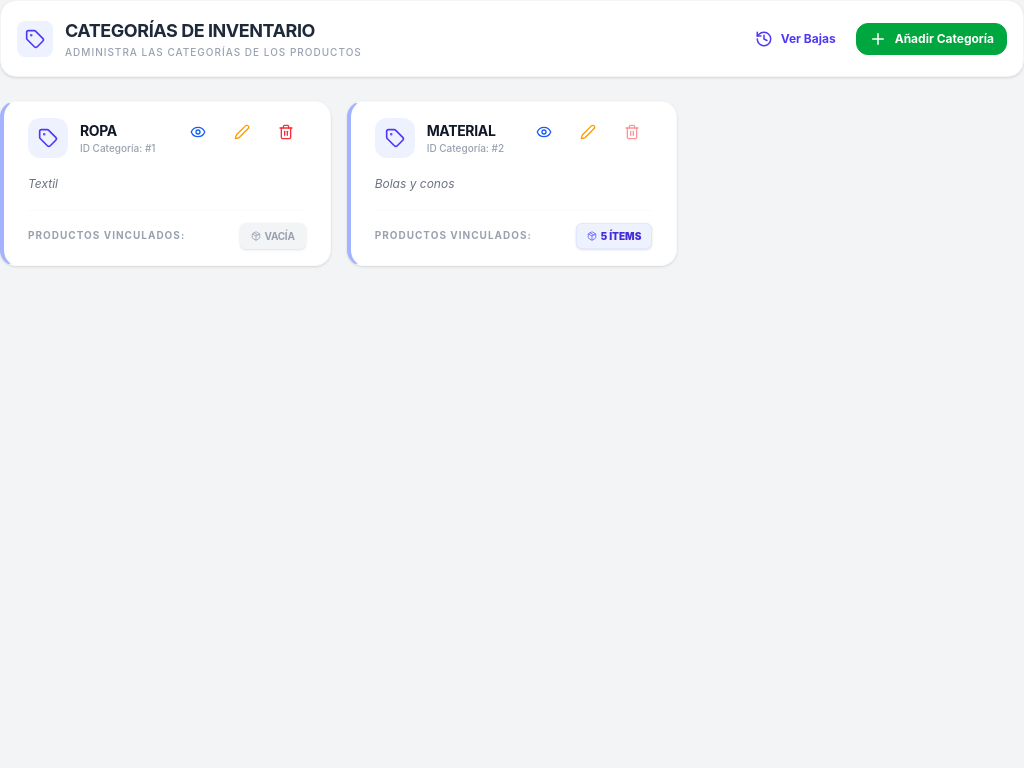
CategoriesSection › Flujo de Creación y Edición › debe crear una nueva categoría
The image size is (1024, 768).
Expected: the heading "Ropa" is shown, [80,122,117,138]
Click the button "Añadir Categoría": {"x": 931, "y": 38} [856,22,1007,54]
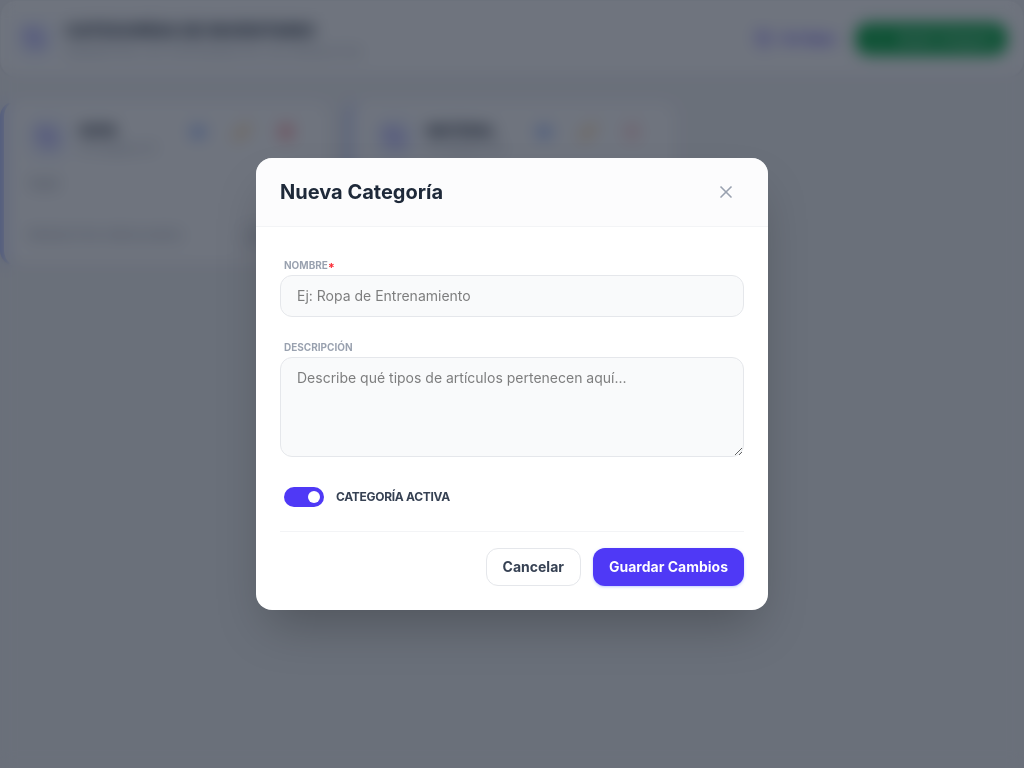
Result: the heading "Nueva Categoría" is shown at [280,178,443,206]
In the field labelled "Nombre*": {"x": 512, "y": 296} [280,275,744,317], type "Nueva Cat"
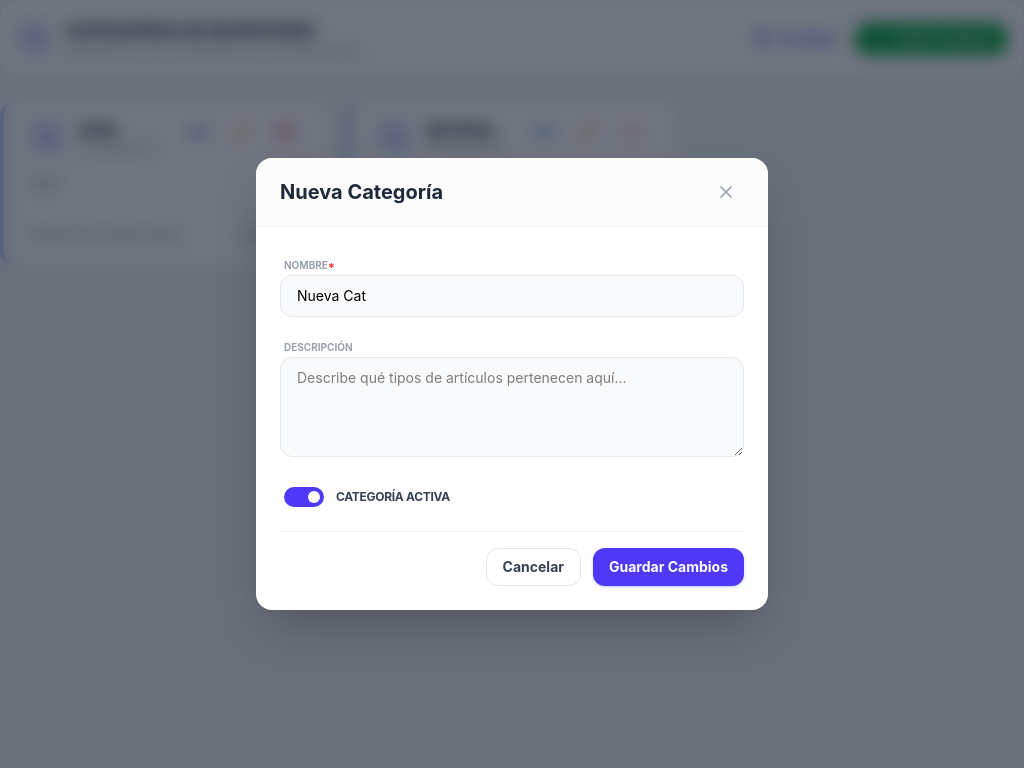
In the text box labelled "Descripción": {"x": 512, "y": 407} [280,357,744,457], type "Desc nueva"
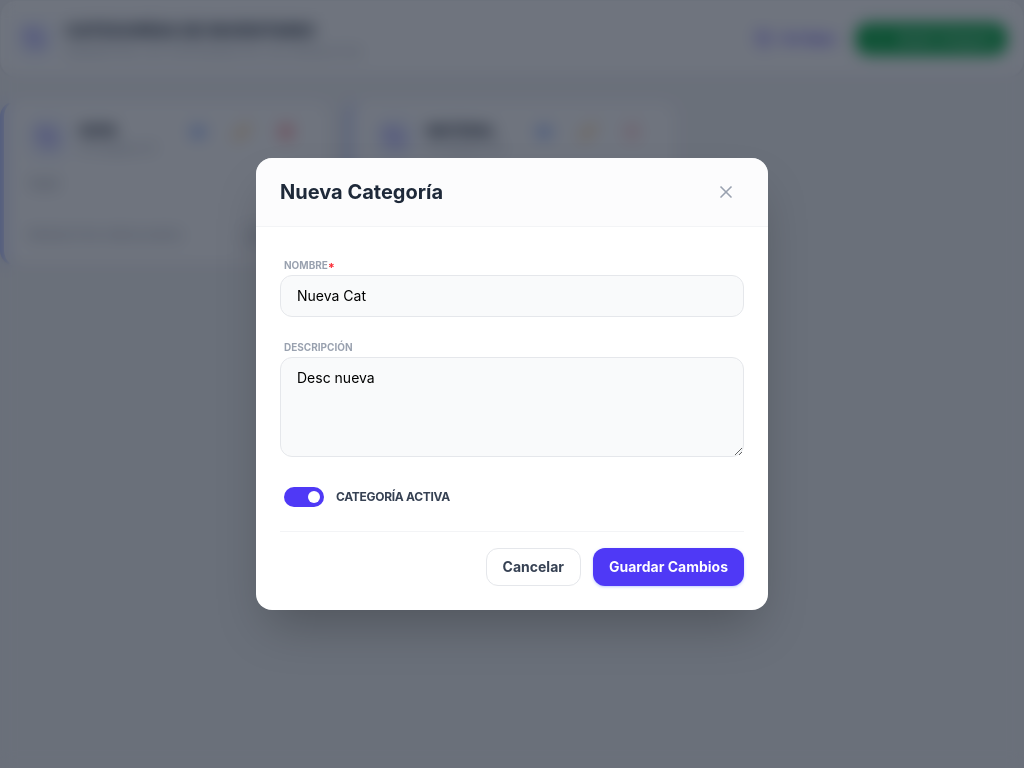
Click the button "Guardar Cambios": {"x": 668, "y": 567} [593,548,744,586]
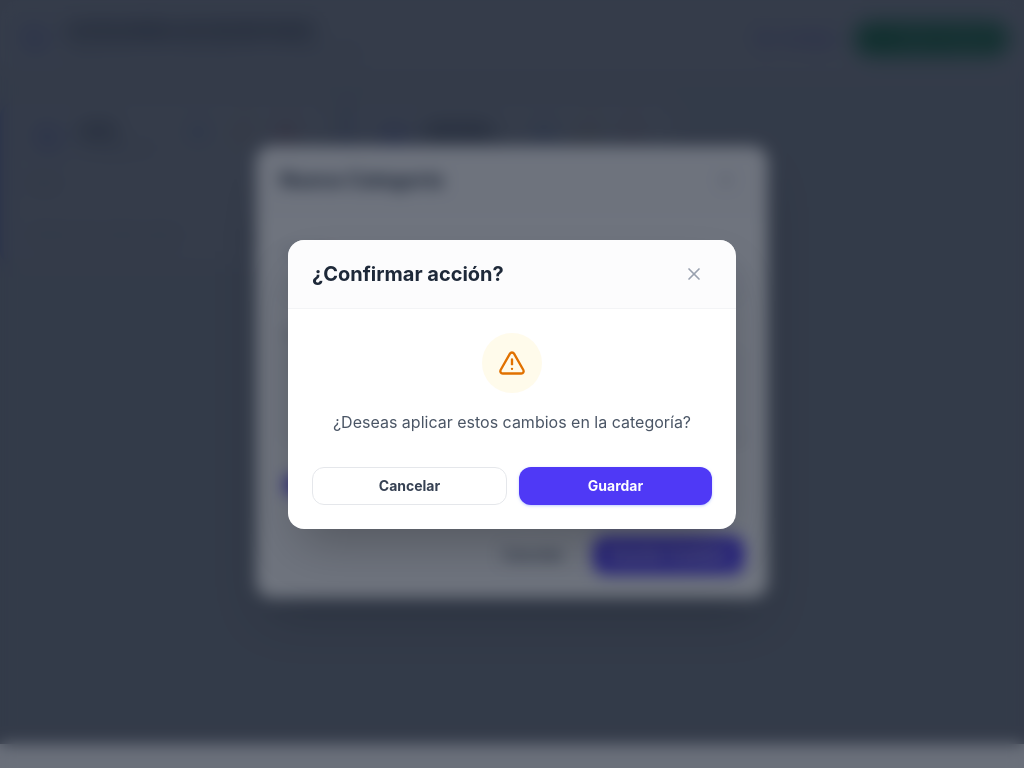
Click the button "Guardar": {"x": 616, "y": 486} [519,466,712,504]
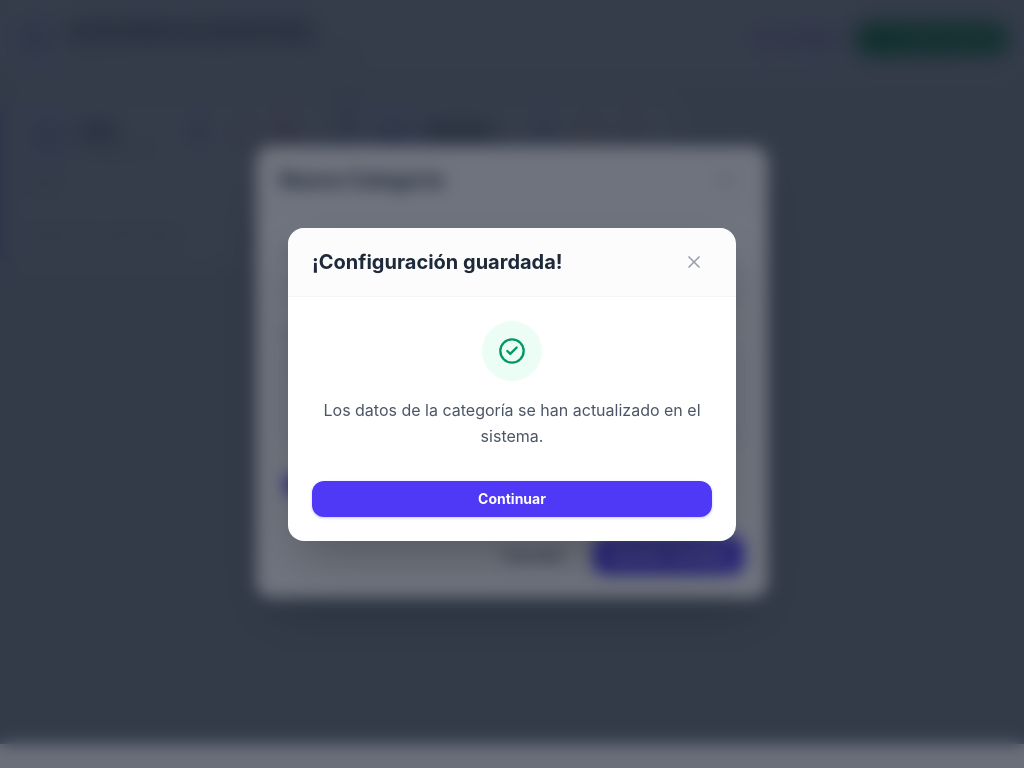
Result: the heading "¡Configuración guardada!" is shown at [312,248,563,276]
